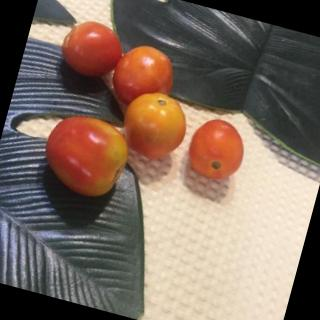Tomat: (11, 13, 273, 252)
